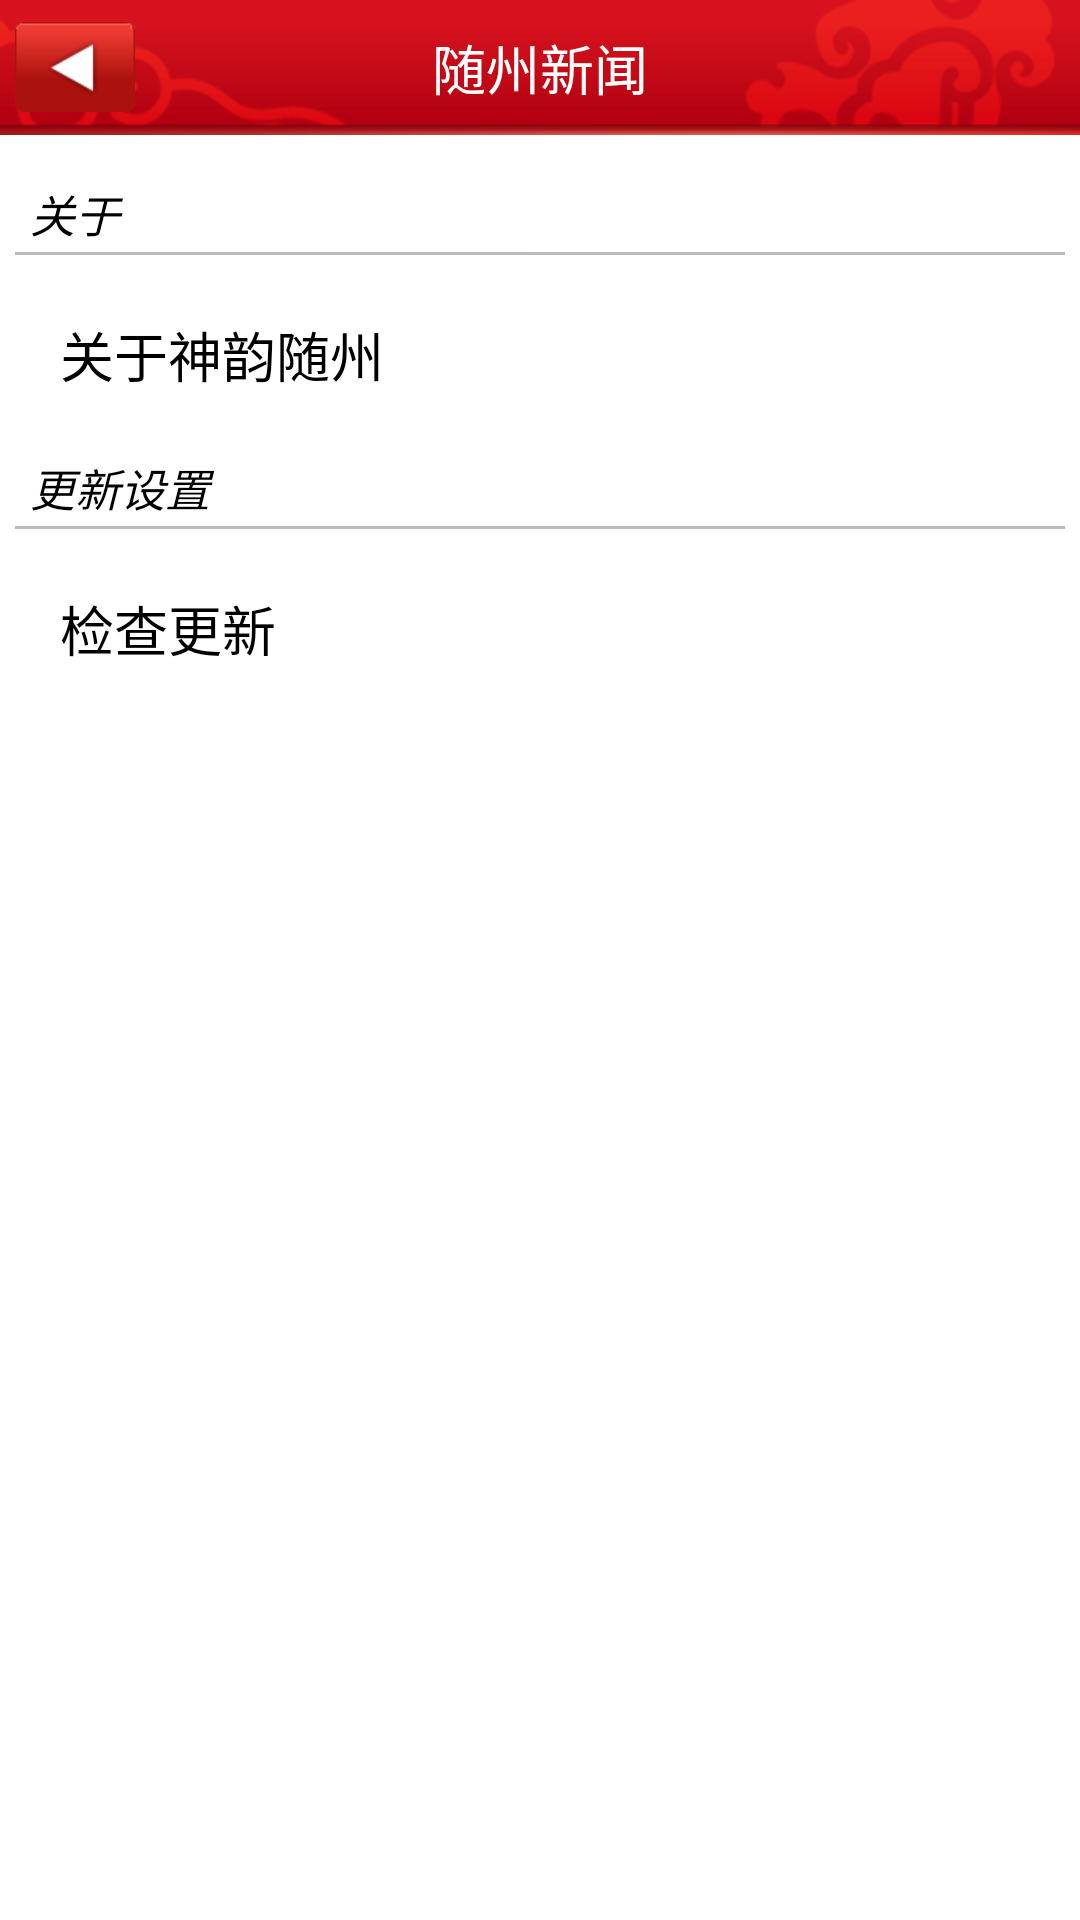

Where to tap for icons on this 1080 × 1920 app screen, as (x,y):
back an: (75,67)
